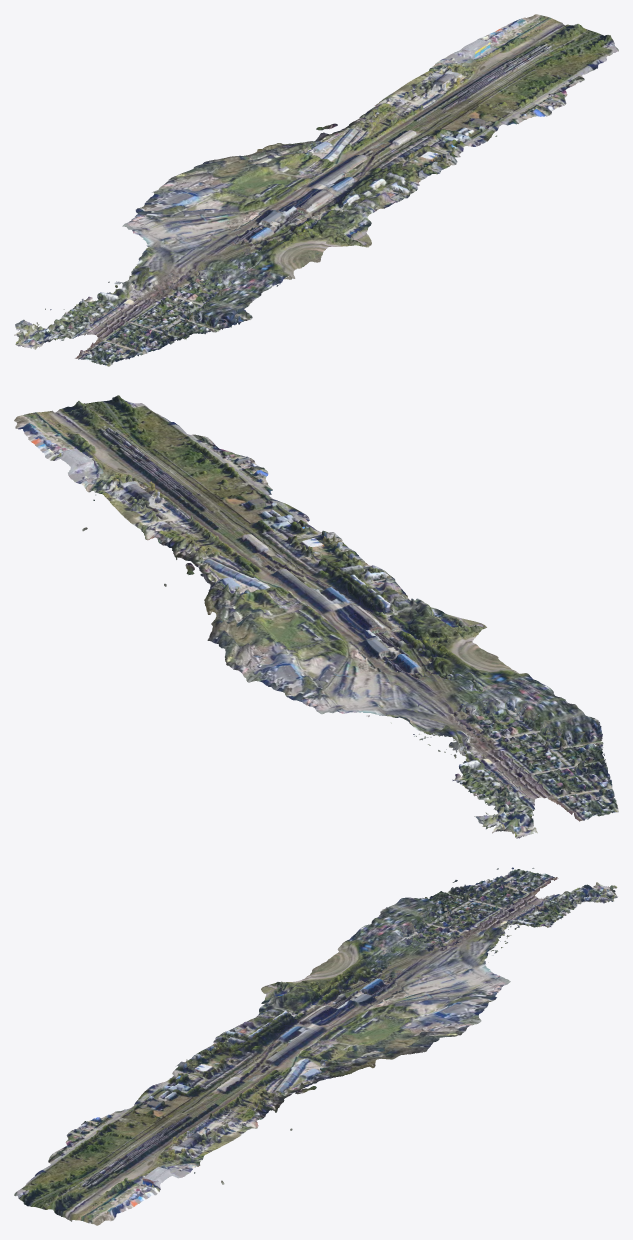
Rendered from depot_ramenskoe.glb.
The picture shows the model from 3 angles, top to bottom: view 1: azimuth 90°, elevation 25°; view 2: azimuth 150°, elevation 25°; view 3: azimuth 270°, elevation 25°; orthographic projection. The views are drawn at different scales.
Parts seen in each view (by area): view 1: Object_2; view 2: Object_2; view 3: Object_2.
Boxes of the visible parts, <box> form: Object_2: <box>14,14,618,366</box>; Object_2: <box>14,395,618,838</box>; Object_2: <box>14,867,617,1225</box>.
Size of the model in its own units: 2286 by 118 by 1657.
Materials: 1 (1 with a texture image).
